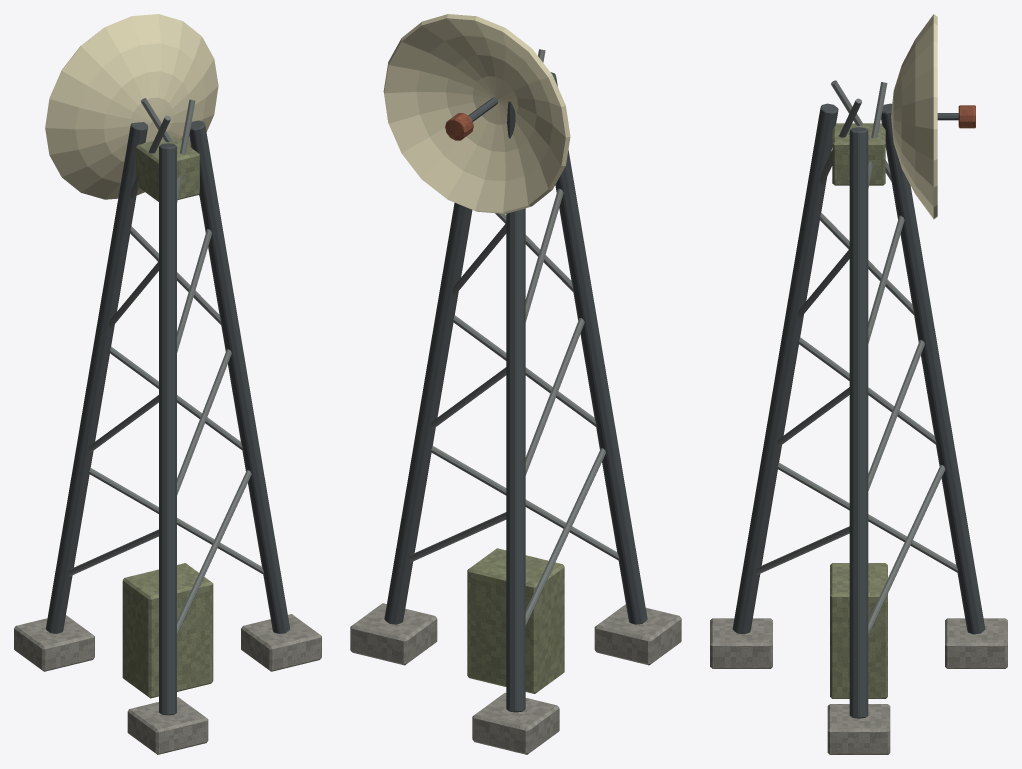
3 views of the same model, side by side, from view 1: azimuth 30°, elevation 25°; view 2: azimuth 150°, elevation 25°; view 3: azimuth 270°, elevation 25° (orthographic). The views are drawn at different scales.
Visible parts, largest first — view 1: ST2-B03_Mesh, AntennaYaw_Mesh; view 2: ST2-B03_Mesh, AntennaYaw_Mesh; view 3: ST2-B03_Mesh, AntennaYaw_Mesh.
Boxes of the visible parts, x1,y1,x2,y2 form: ST2-B03_Mesh: (14, 98, 321, 754); AntennaYaw_Mesh: (45, 14, 218, 201); ST2-B03_Mesh: (350, 49, 681, 754); AntennaYaw_Mesh: (383, 14, 570, 213); ST2-B03_Mesh: (710, 80, 1007, 754); AntennaYaw_Mesh: (832, 14, 975, 219).
Bounding box in the file's own units: 2.79 × 7.55 × 3.07.
6 materials, 3 textured.
